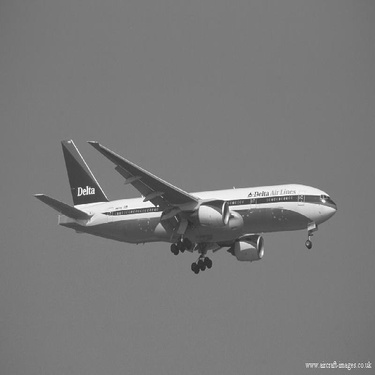airplane: (31, 130, 340, 274)
